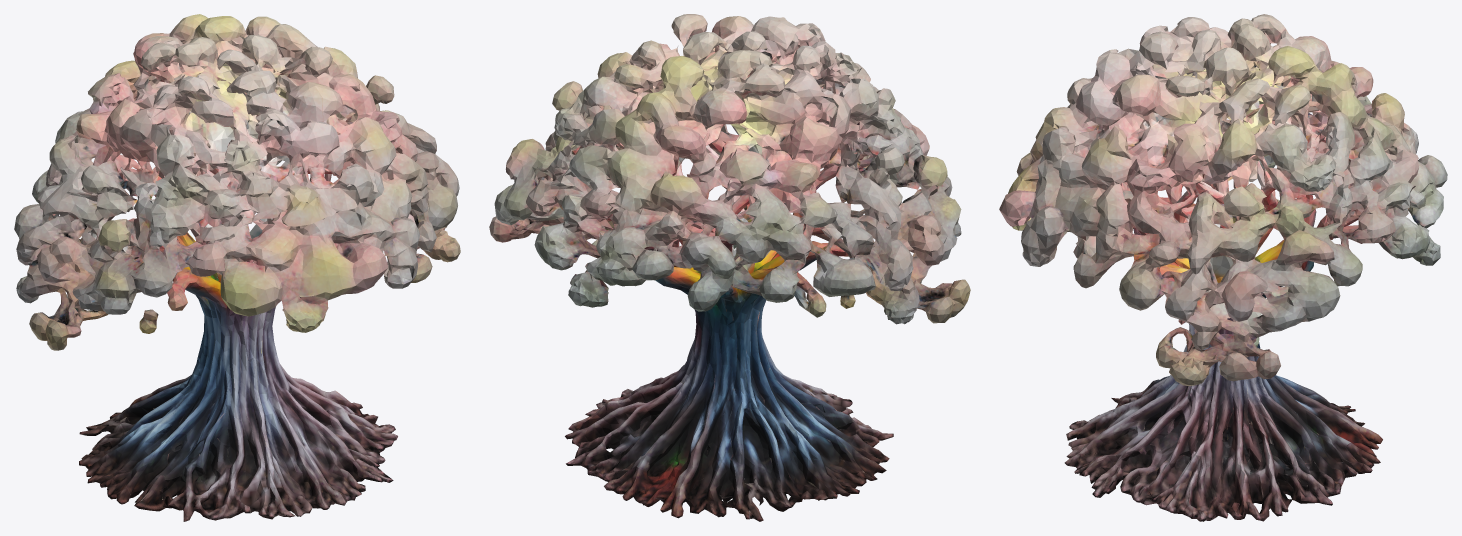
The model's file is 3D-Holo-Knowledge-Tree-v1.glb.
3 views of the same model, side by side, from view 1: azimuth 30°, elevation 25°; view 2: azimuth 150°, elevation 25°; view 3: azimuth 270°, elevation 25° (orthographic).
Parts seen in each view (by area): view 1: world; view 2: world; view 3: world.
Boxes of the visible parts, <box> form: world: <box>14,14,460,521</box>; world: <box>489,14,970,521</box>; world: <box>999,14,1447,521</box>.
Size of the model in its own units: 1 by 0.9542 by 0.9092.
Materials: 1 (1 with a texture image).
